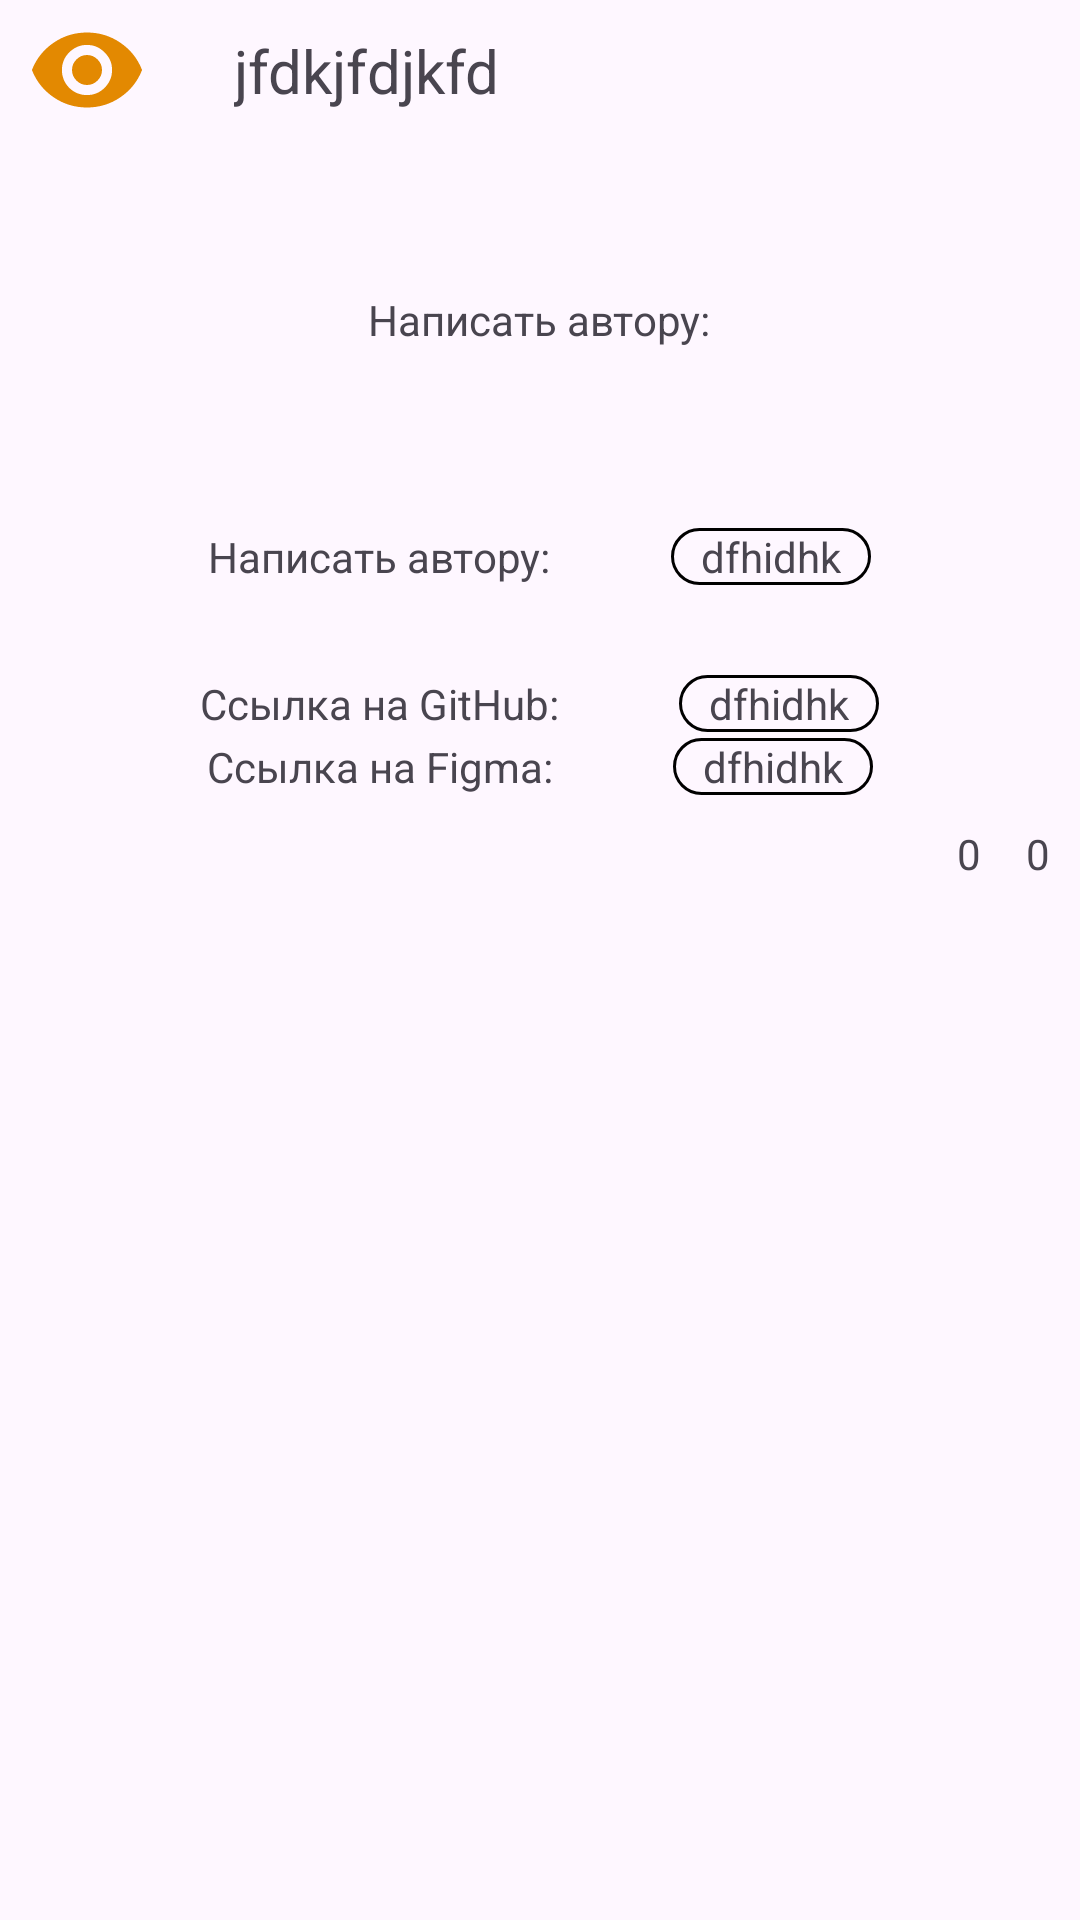

Point at icon controls on the screen. Image size 1080w x 1920h, points as (x=x, y=y).
visibility: (x=87, y=70)
